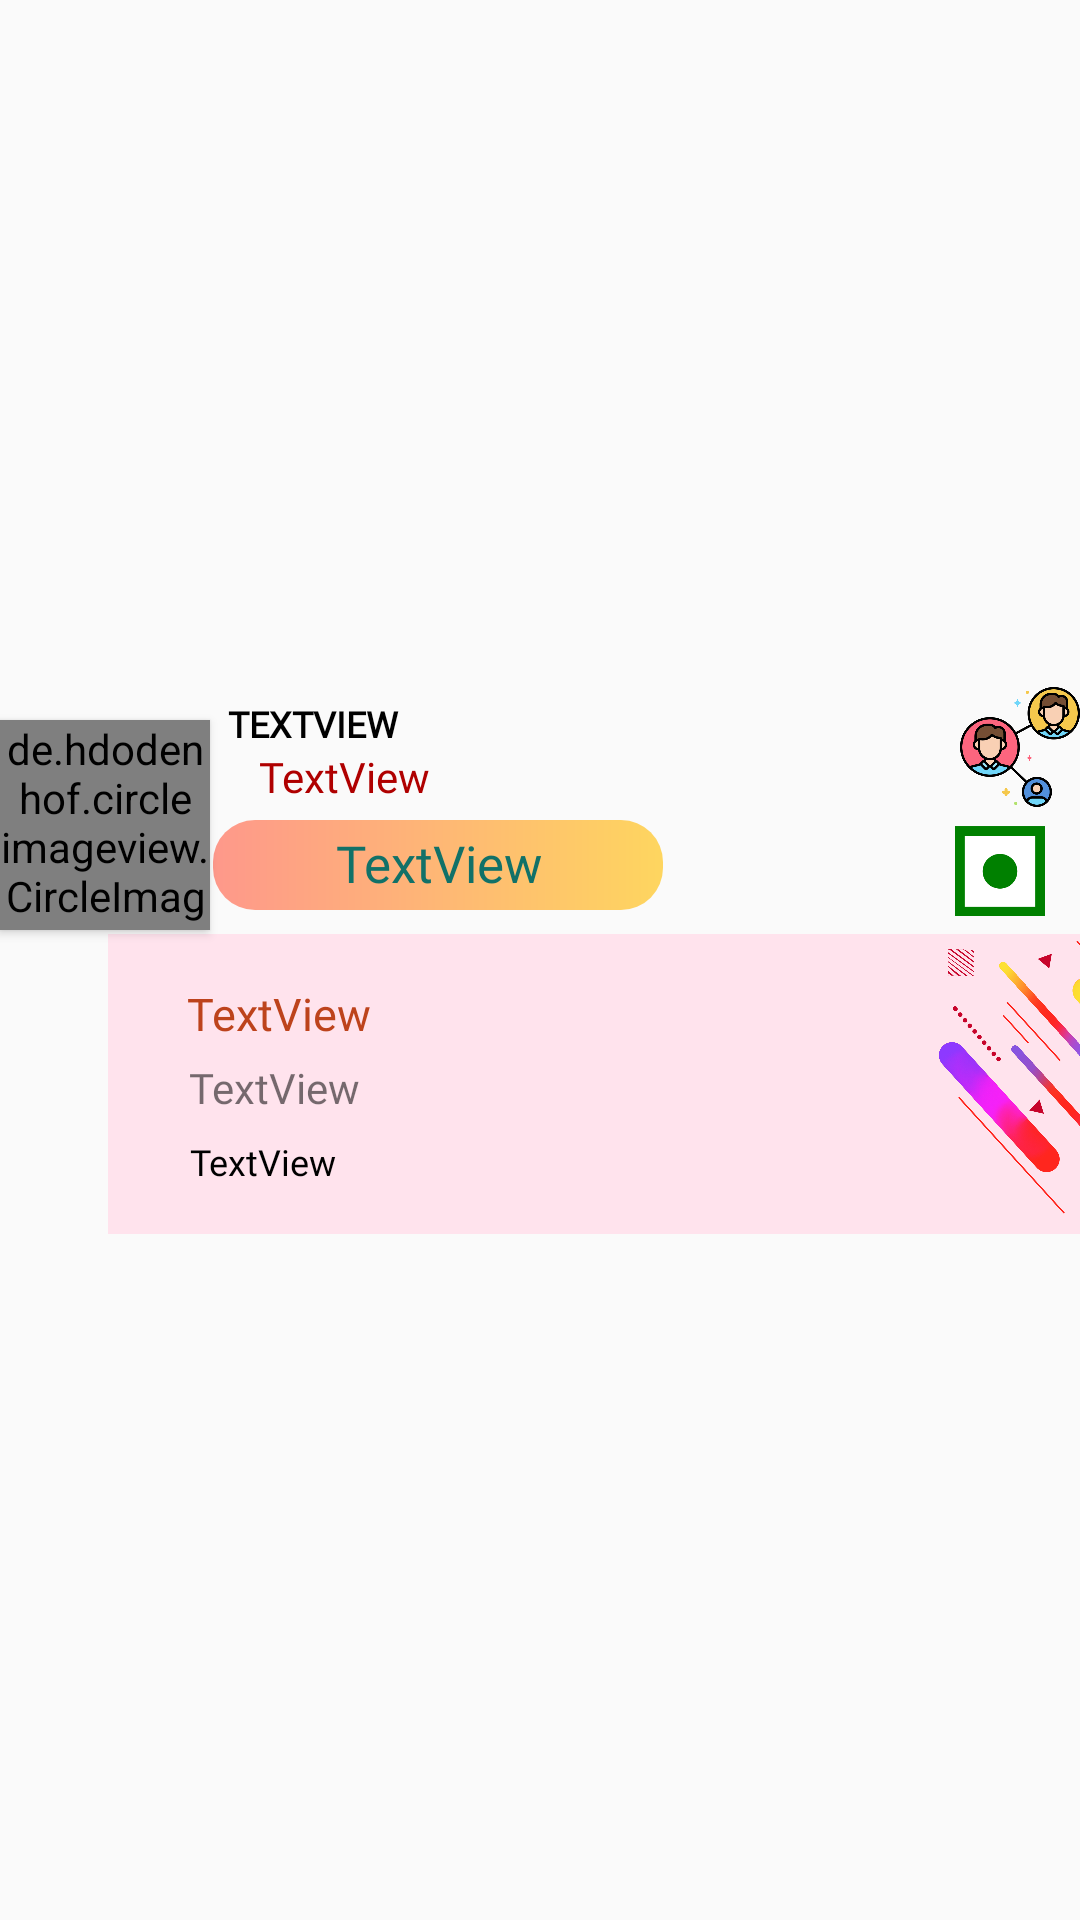

Where icons sit on this 1080px×1920px app screen, as (x1, y1, x2, y2):
act sharelink: (960, 687, 1080, 807)
Show about tiffin contain veg or Non veg: (955, 826, 1045, 916)
